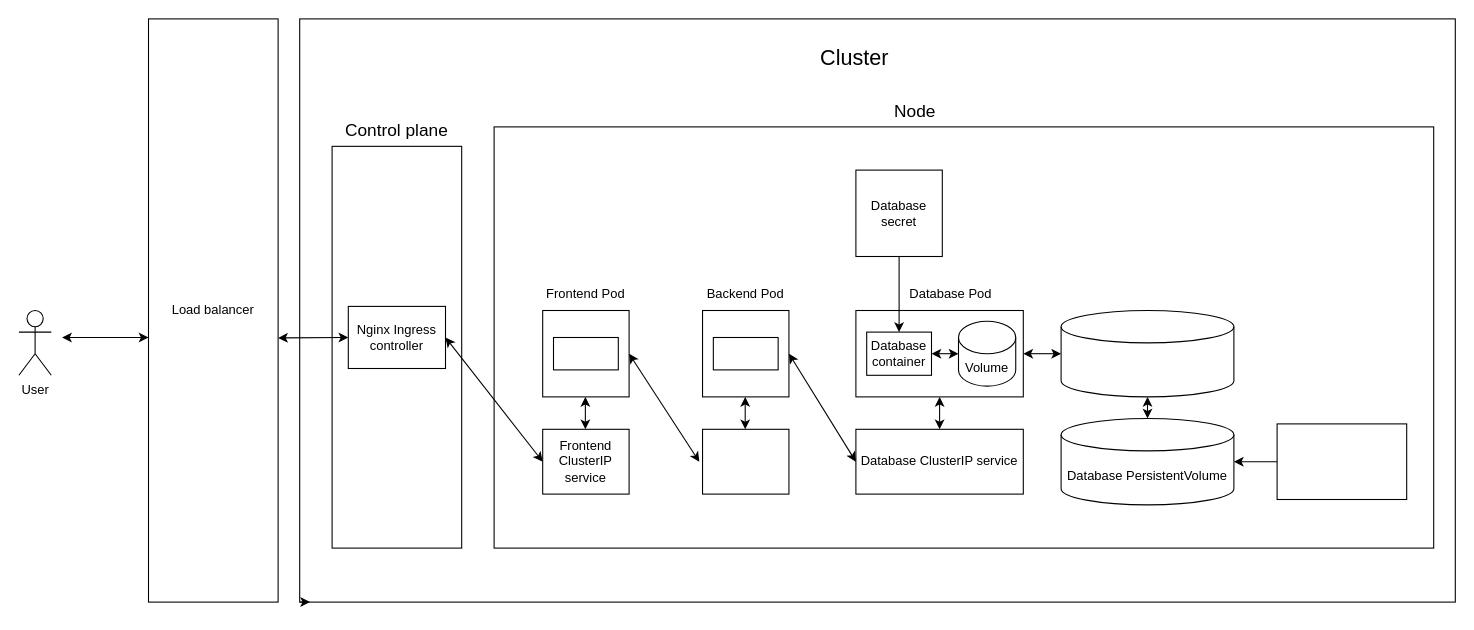
The diagram is 1474 pixels wide and 630 high, and some of its shapes have lost their labels. The shapes that lost their labels are listed below. From the top down, each one's centre as x and y in pixels, then its label:
At [585,353]: "Frontend container".
At [745,353]: "Backend container".
At [1147,353]: "Database PersistentVolumeClaim".
At [745,461]: "Backend ClusterIP service".
At [1341,461]: "Database StorageClass".
